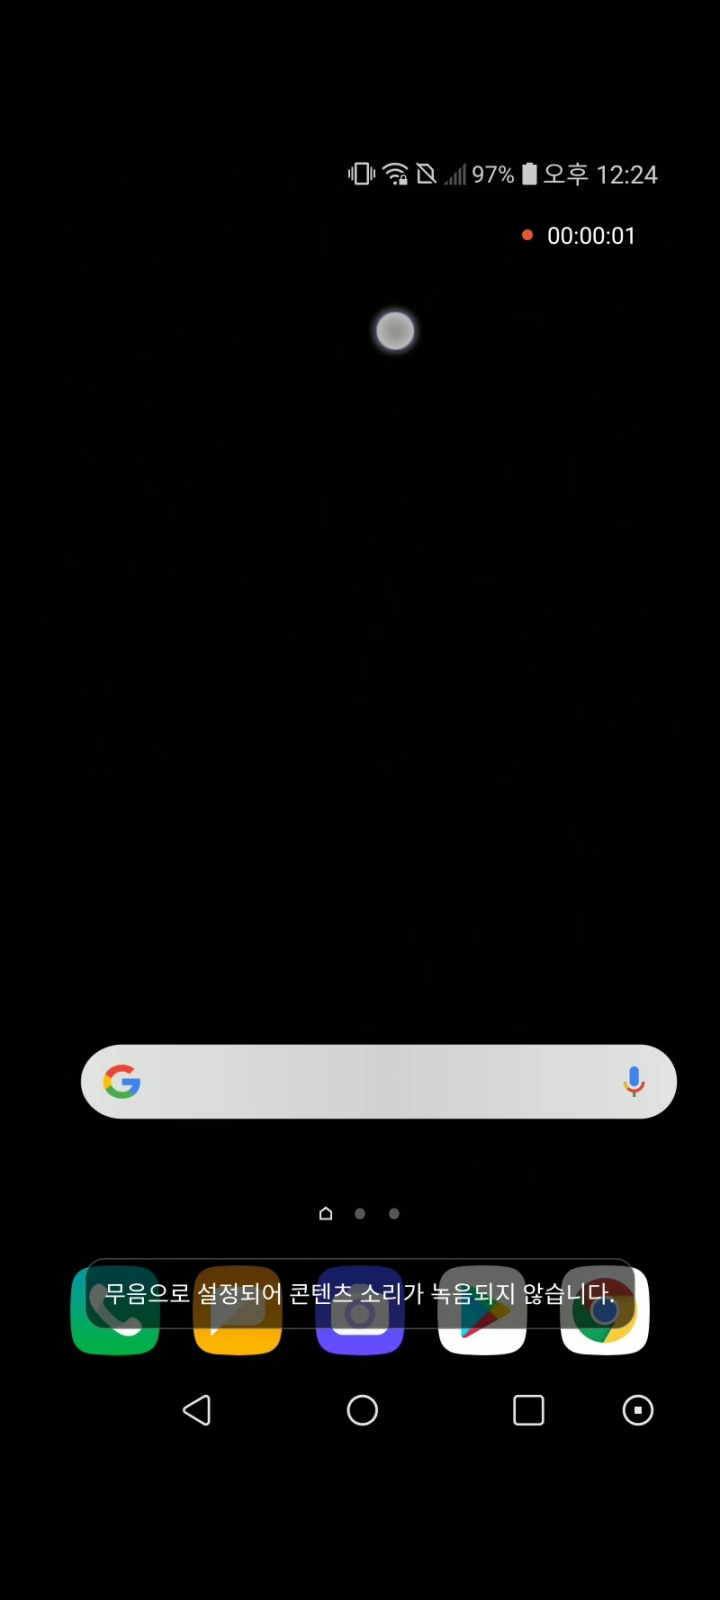Cursor: (372, 311, 417, 356)
